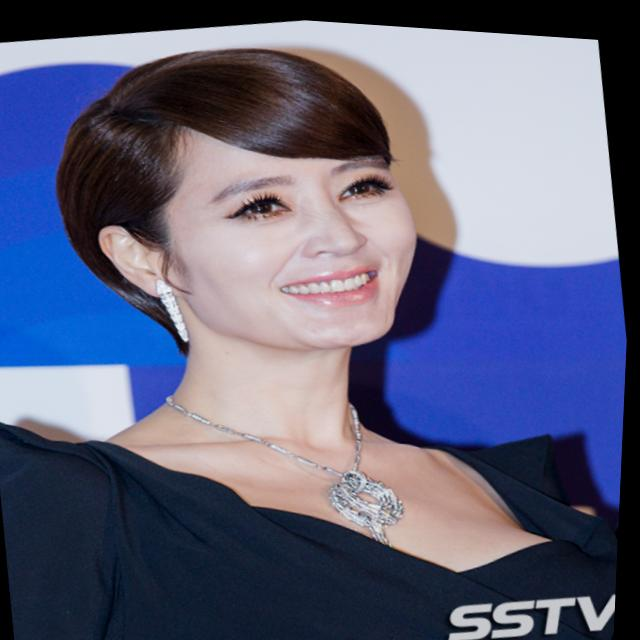face: (133, 88, 449, 376)
